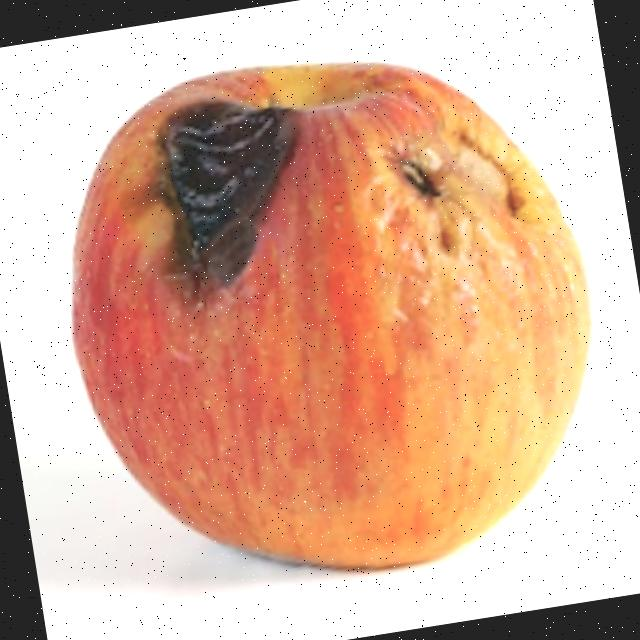Rotten: (26, 7, 634, 618)
